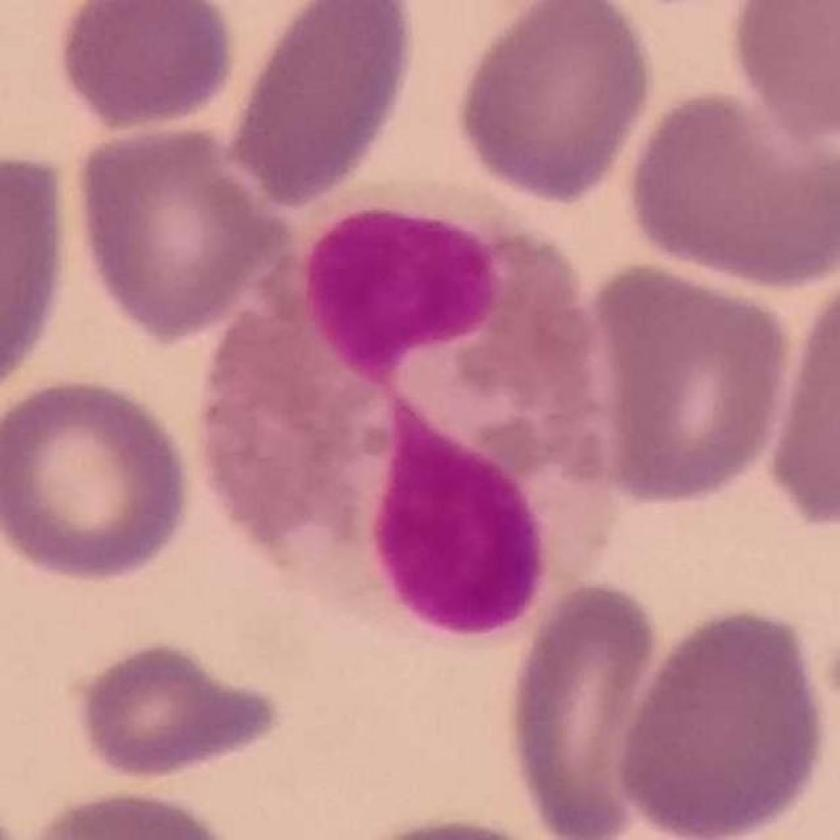eosinophil: (203, 173, 631, 651)
